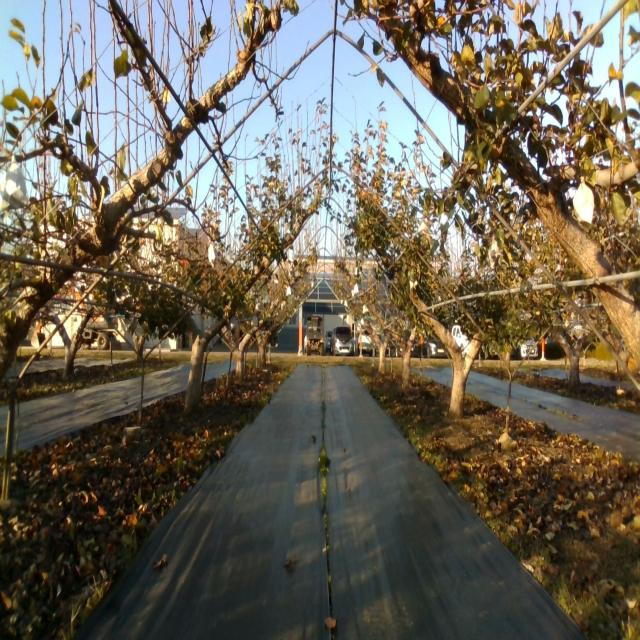pearbags: (0, 154, 30, 211), (572, 177, 595, 225), (488, 236, 501, 274), (207, 238, 217, 268), (418, 217, 432, 236)
